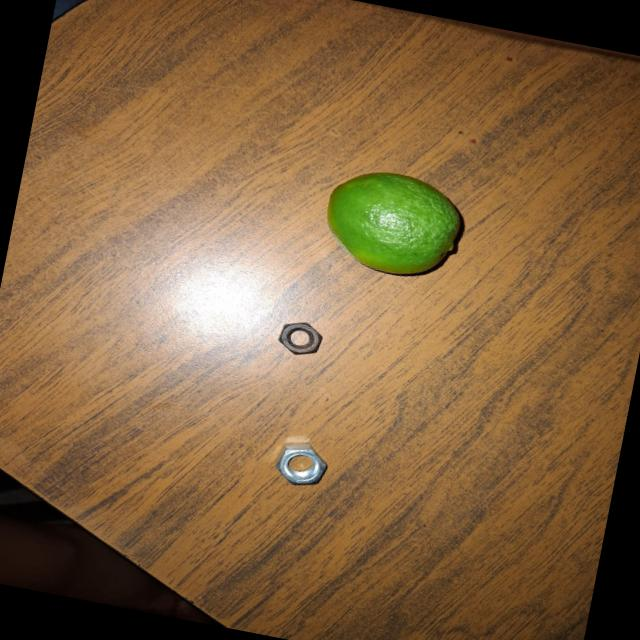limon: (304, 158, 493, 294)
milimetrico: (266, 314, 336, 368)
tuerca: (266, 436, 341, 496)
